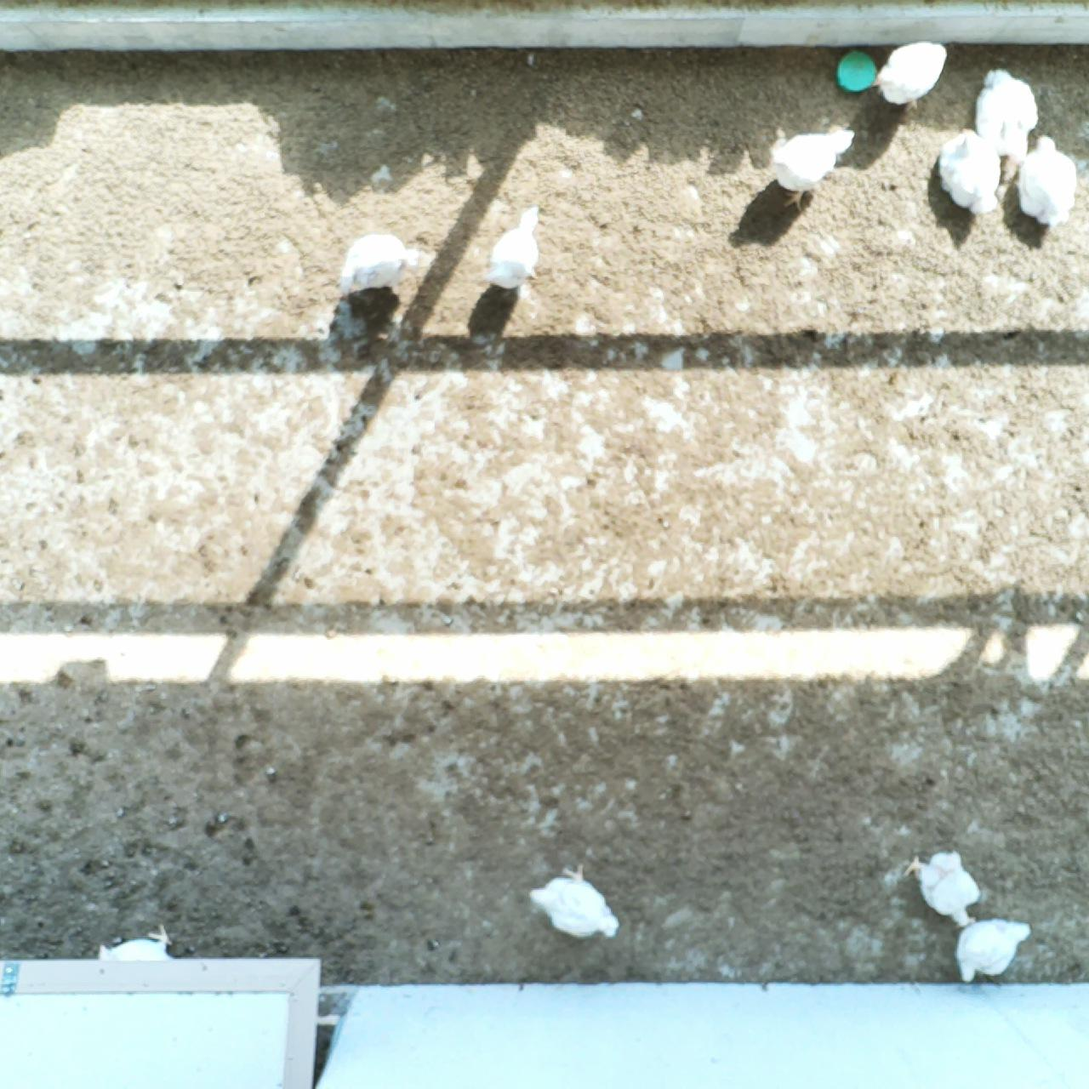chicken: (525, 857, 624, 947), (765, 121, 857, 215), (1011, 129, 1081, 231), (899, 843, 982, 929), (869, 38, 953, 120), (335, 226, 424, 301), (935, 125, 1005, 218), (972, 65, 1040, 160), (949, 916, 1035, 985), (485, 203, 547, 296), (96, 919, 178, 967)
